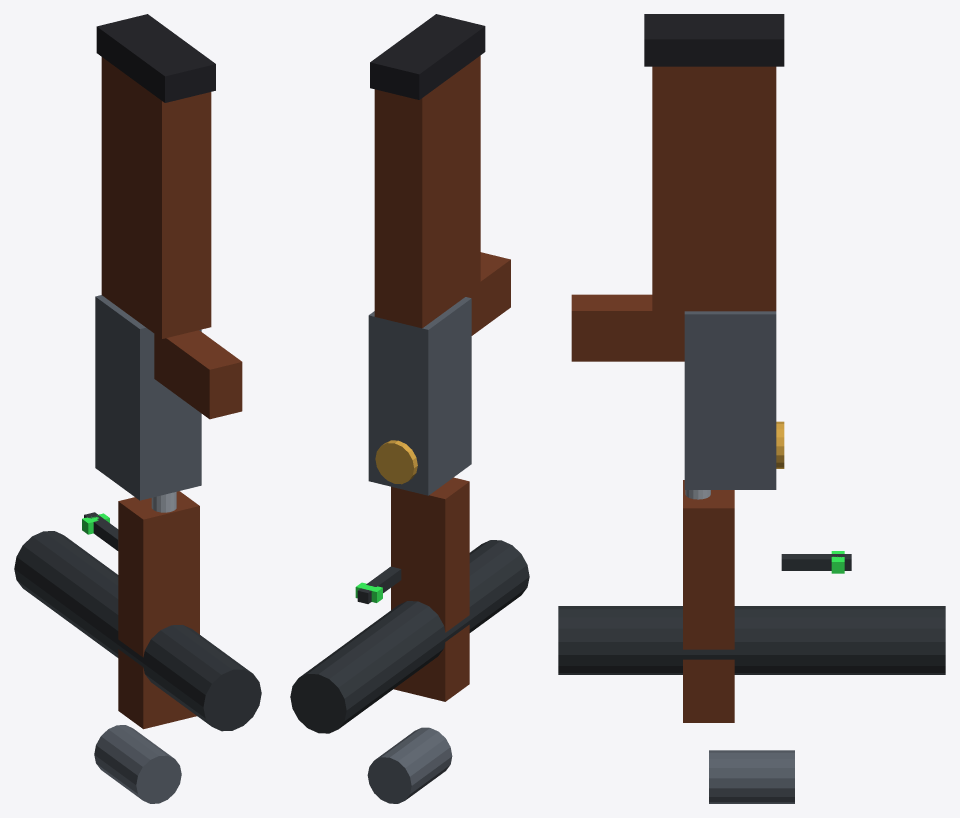
The model's file is grenade_launcher.obj.
The picture shows the model from 3 angles, left to right: view 1: azimuth 30°, elevation 25°; view 2: azimuth 150°, elevation 25°; view 3: azimuth 270°, elevation 25°; orthographic projection. The views are drawn at different scales.
Visible parts, largest first — view 1: Weapon_GrenadeLauncher; view 2: Weapon_GrenadeLauncher; view 3: Weapon_GrenadeLauncher.
Part boxes in pixels (bbox=[...]): Weapon_GrenadeLauncher: bbox=[14, 14, 261, 803]; Weapon_GrenadeLauncher: bbox=[290, 14, 529, 803]; Weapon_GrenadeLauncher: bbox=[558, 14, 945, 803].
Bounding box in the file's own units: 0.068 × 0.794 × 0.36.
